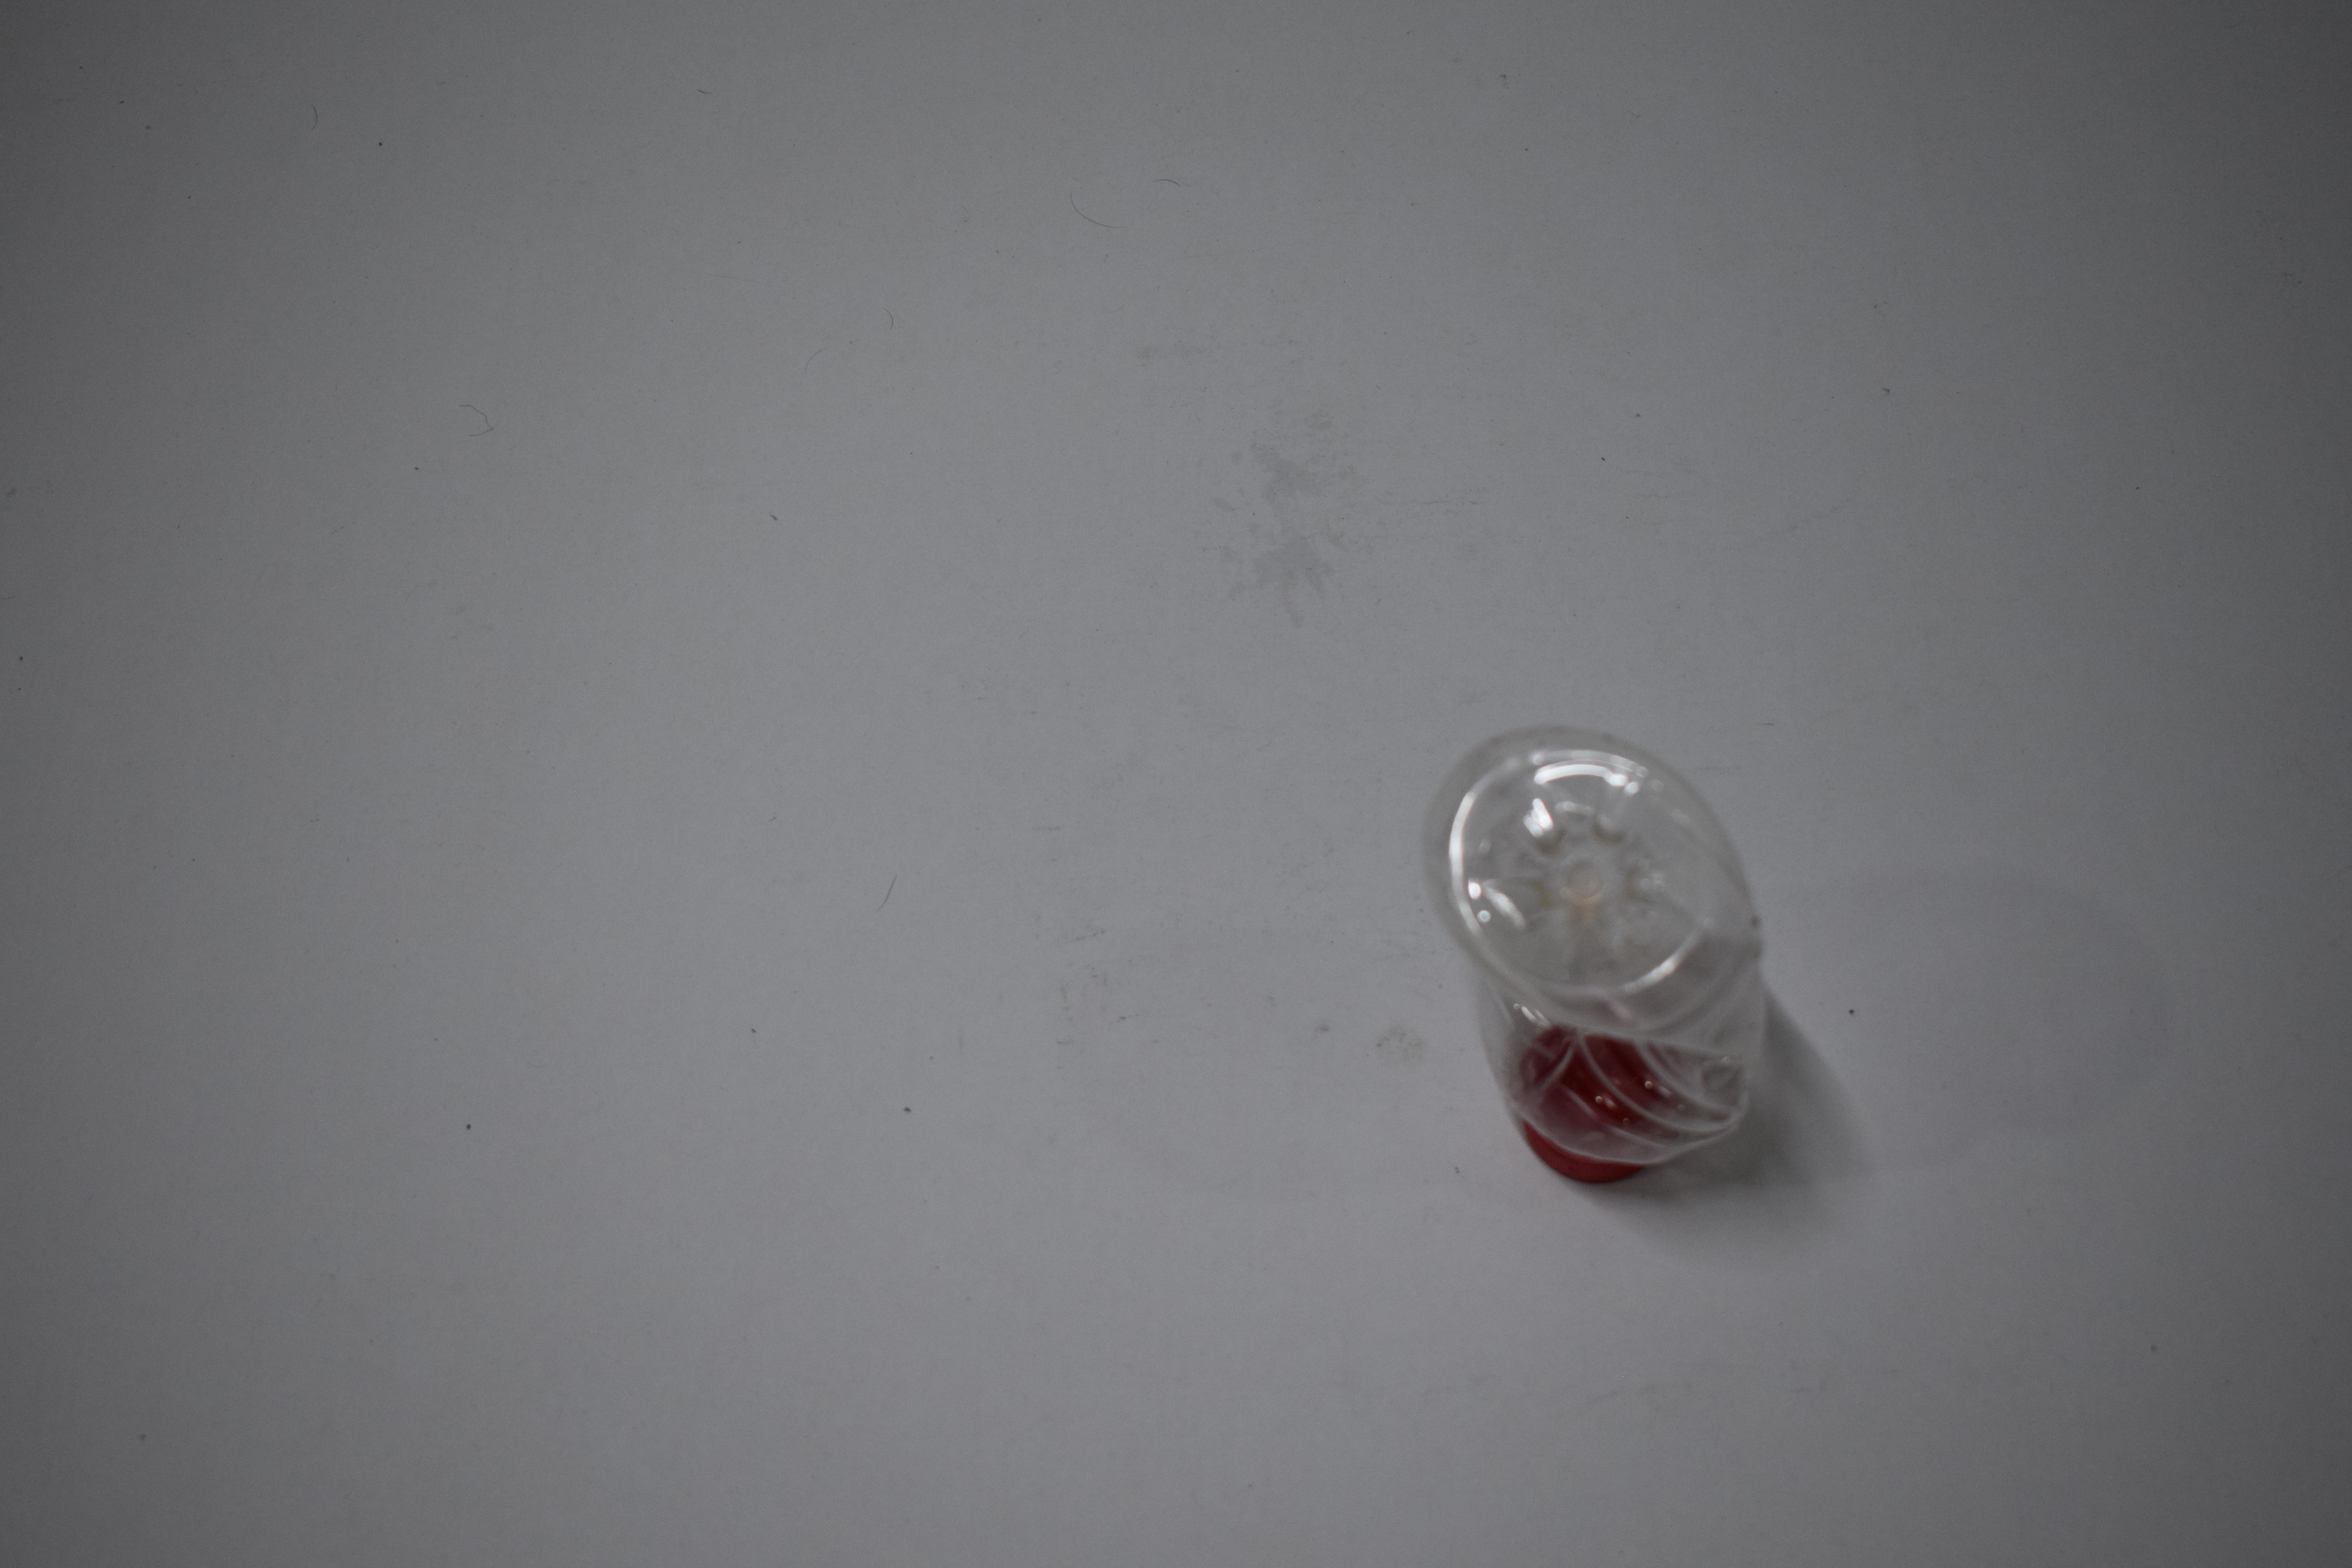bottle: (1470, 717, 1726, 1192)
